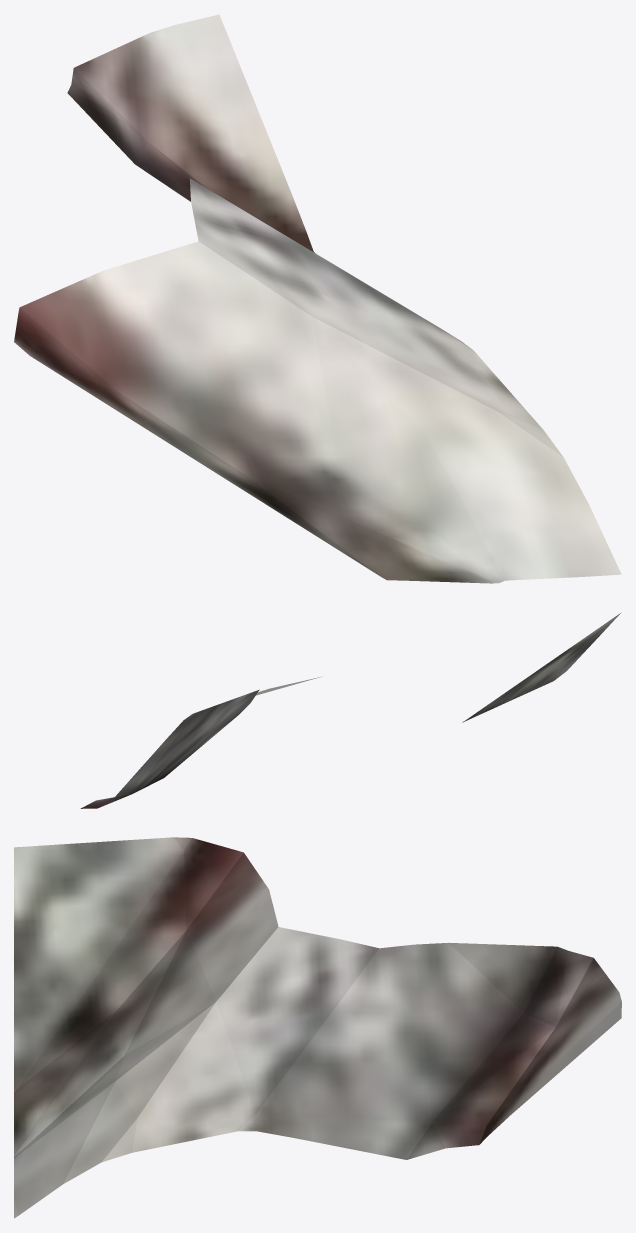
3 renders of one model, top to bottom at view 1: azimuth 30°, elevation 25°; view 2: azimuth 150°, elevation 25°; view 3: azimuth 270°, elevation 25°, orthographic. The views are drawn at different scales.
Size of the model in its own units: 0.1938 by 0.1001 by 0.2753.
Materials: 1 (1 with a texture image).
